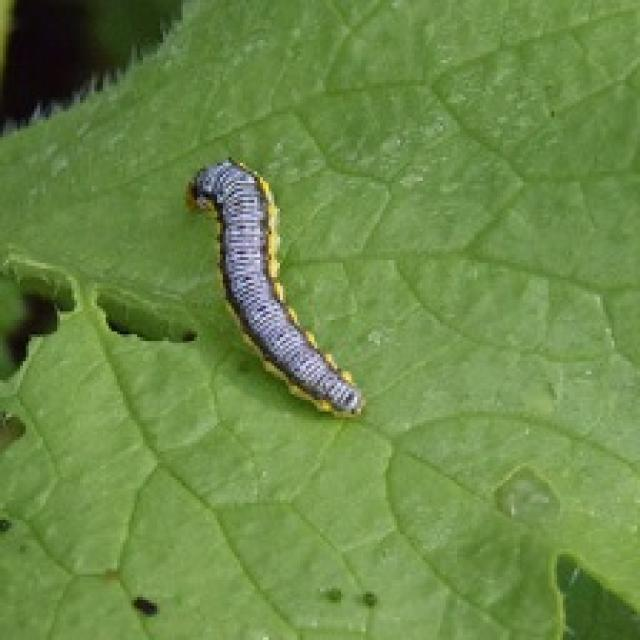Cabbage-worm: (177, 143, 388, 442)
